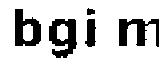b: (10, 6, 42, 51)
g: (46, 15, 78, 60)
i: (81, 5, 102, 50)
m: (108, 12, 160, 54)
